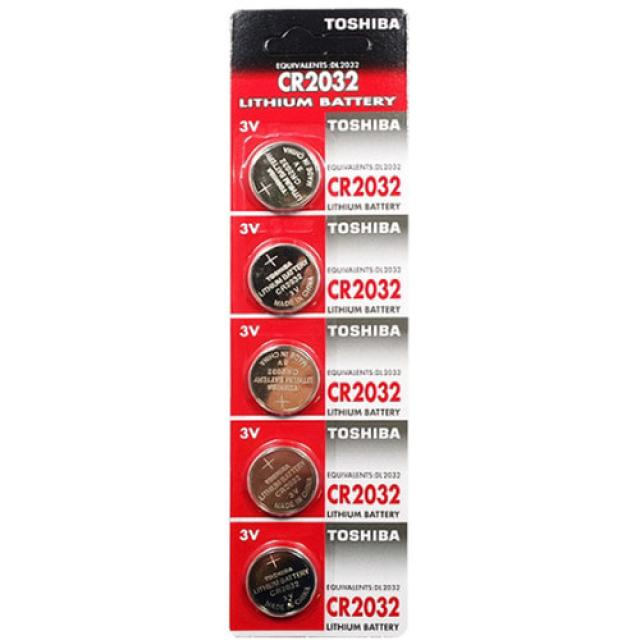battery: (245, 240, 321, 320), (243, 139, 322, 214), (247, 444, 319, 523), (247, 341, 319, 417), (246, 546, 315, 622)
